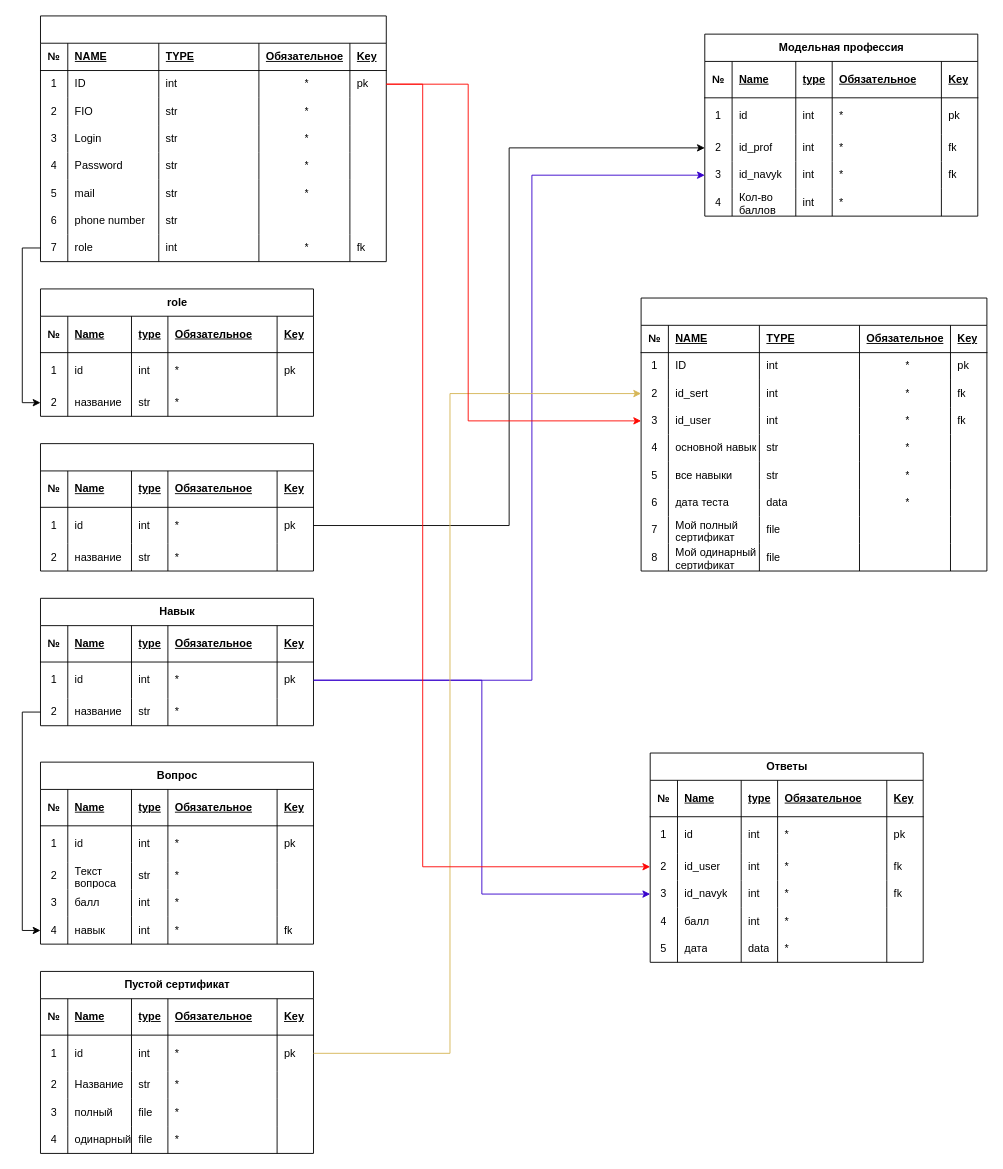
Some shapes in this 1003 by 1169 pixel diagram are drawn without their labels. Each missing label, with the box of its shape:
USER: (40, 15, 386, 262)
Профессии: (40, 443, 313, 571)
Сертификат пользователя: (640, 297, 987, 571)
